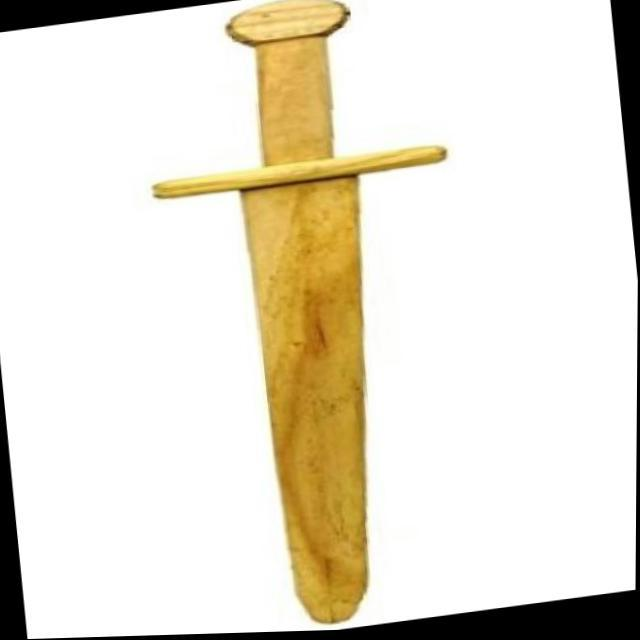weapon: (128, 0, 495, 637)
